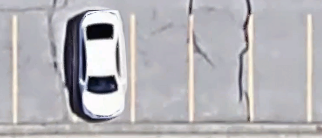Occupied: (74, 15, 133, 124)
Vacant: (14, 15, 76, 125), (192, 16, 252, 124), (250, 16, 310, 124), (132, 15, 192, 122)
